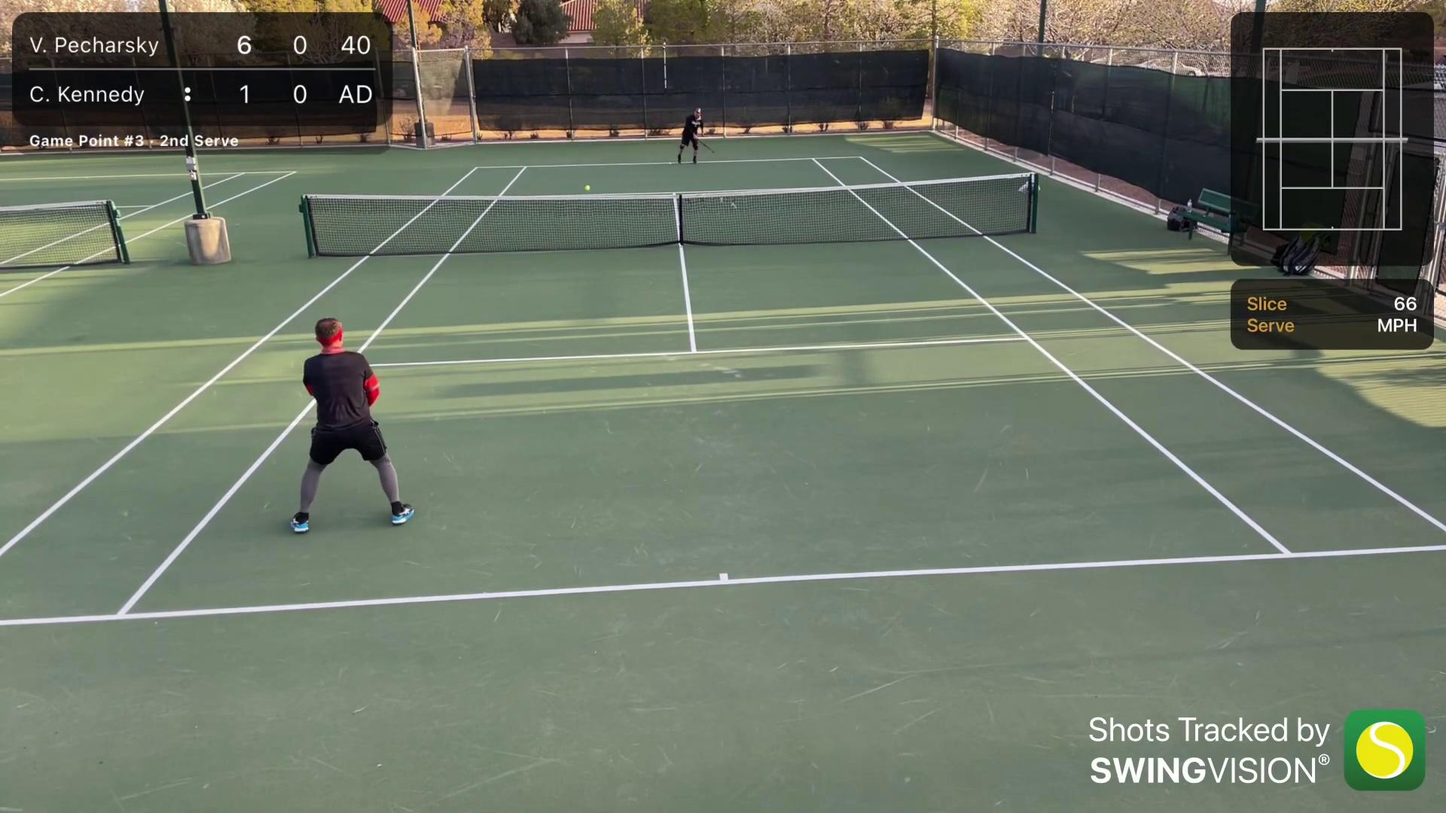ball: (583, 186, 592, 193)
